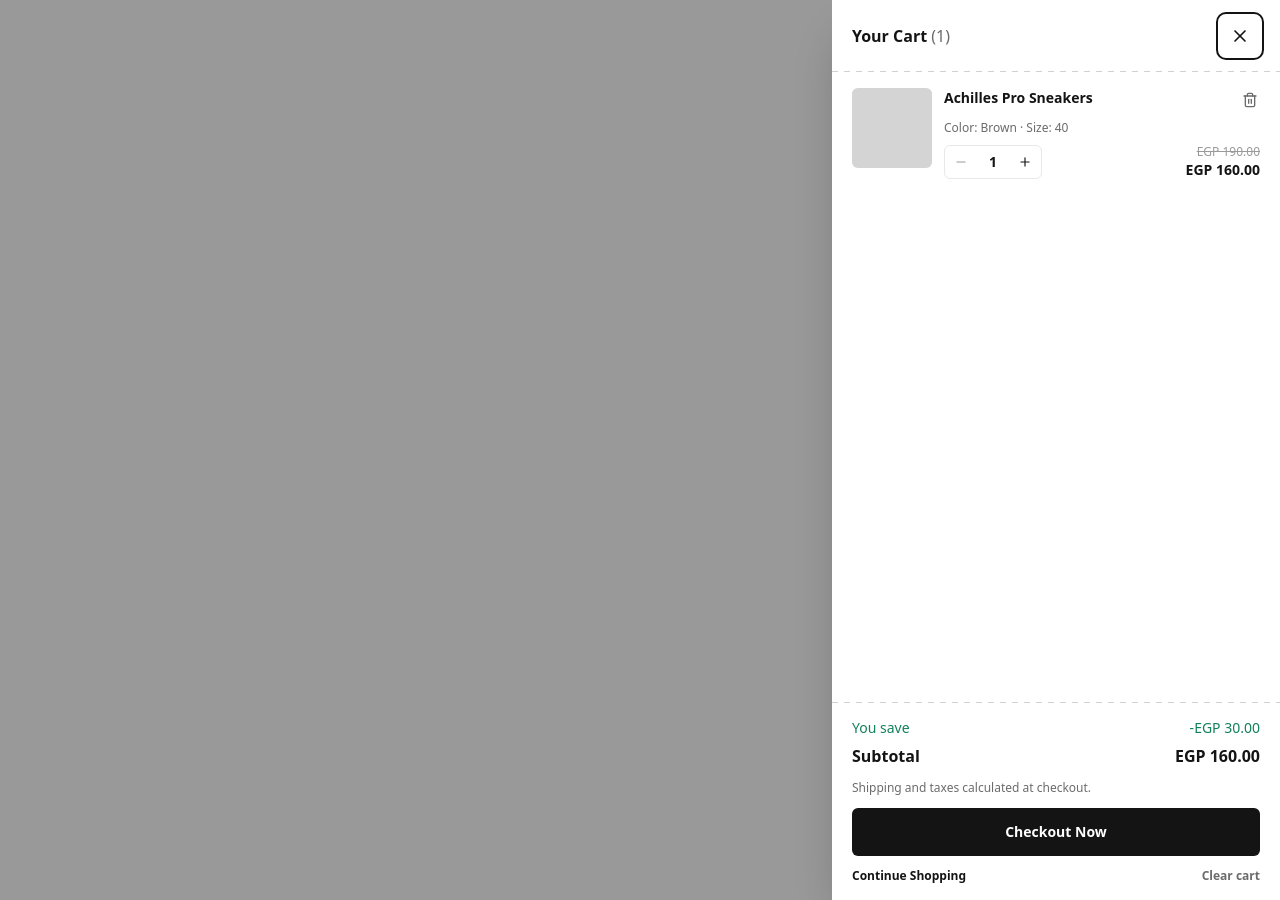
CartDrawer › disables increment at the line maximum
Click the button named "increase quantity": (1025, 162) [1009, 146, 1041, 178]
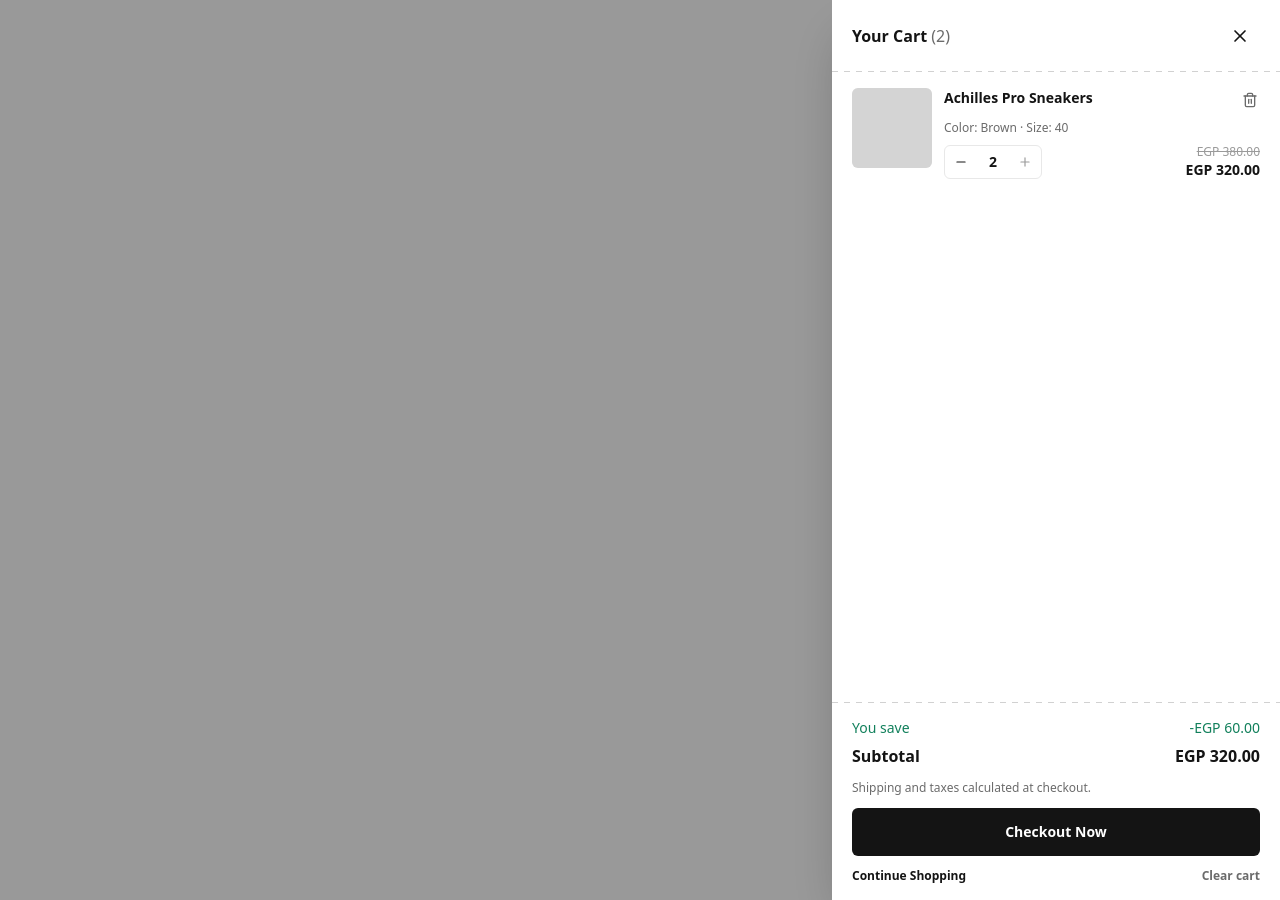
Now the button named "increase quantity" is disabled, box [1009, 146, 1041, 178]
